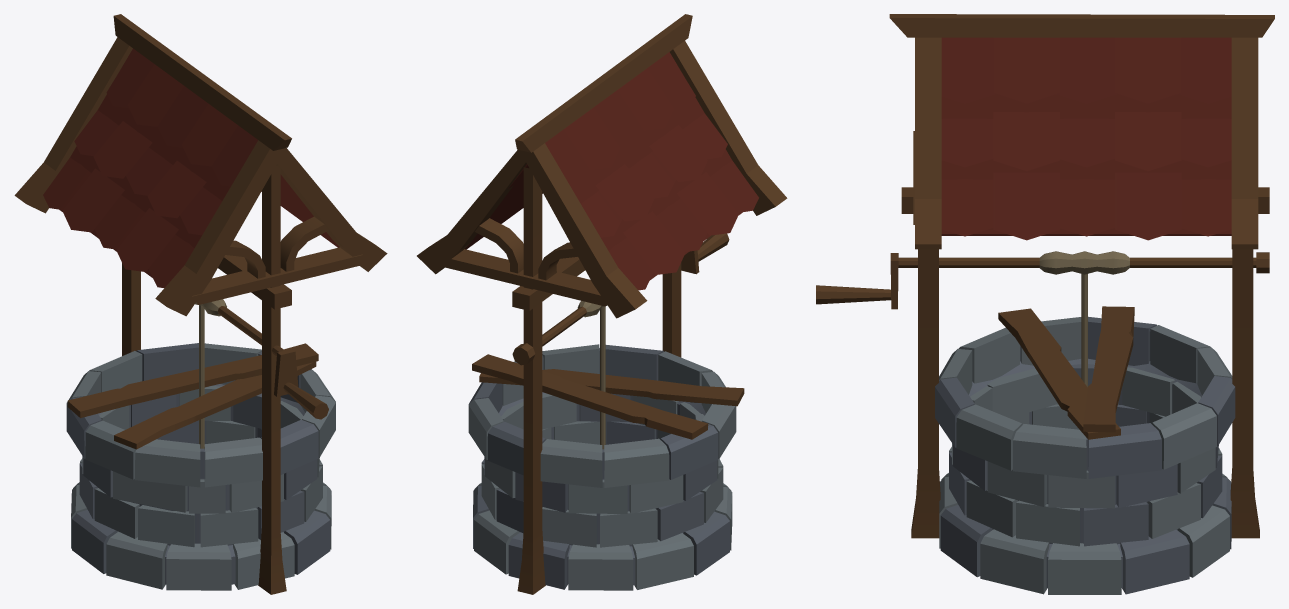
Rendered from well.glb.
3 renders of one model, left to right at view 1: azimuth 30°, elevation 25°; view 2: azimuth 150°, elevation 25°; view 3: azimuth 270°, elevation 25°, orthographic. The views are drawn at different scales.
Visible parts, largest first — view 1: Well; view 2: Well; view 3: Well.
Part boxes in pixels (x1,y1,x2,y2): Well: [14, 14, 387, 594]; Well: [417, 14, 787, 594]; Well: [816, 14, 1274, 594].
Bounding box in the file's own units: 0.6664 × 1.25 × 1.
